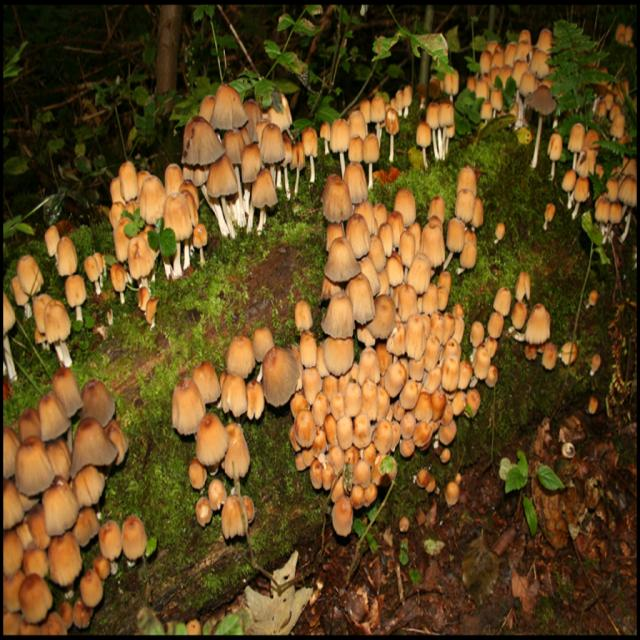Mushroom: (2, 22, 640, 638), (528, 88, 558, 166)
